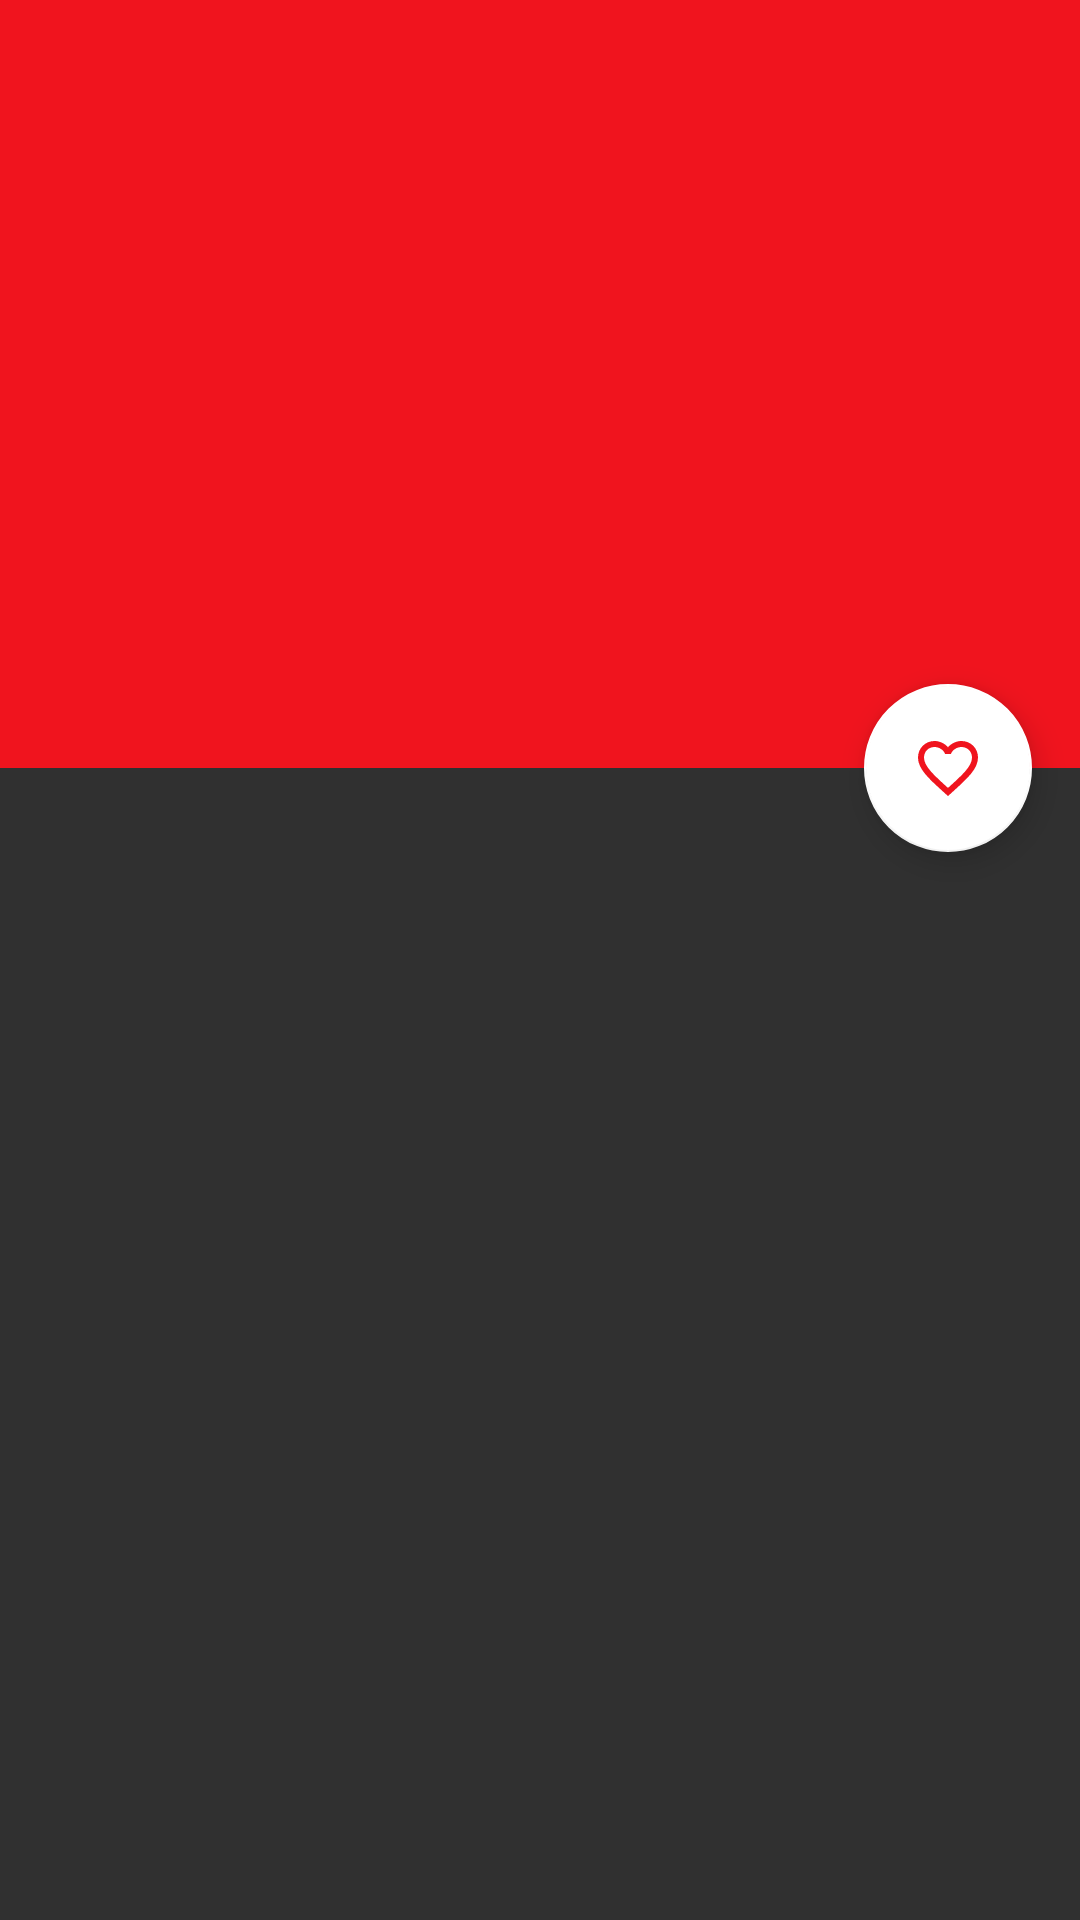

Named icons in this screenshot (1080w x 1920h) and their centers, (x,y):
favorite border: (948,768)
